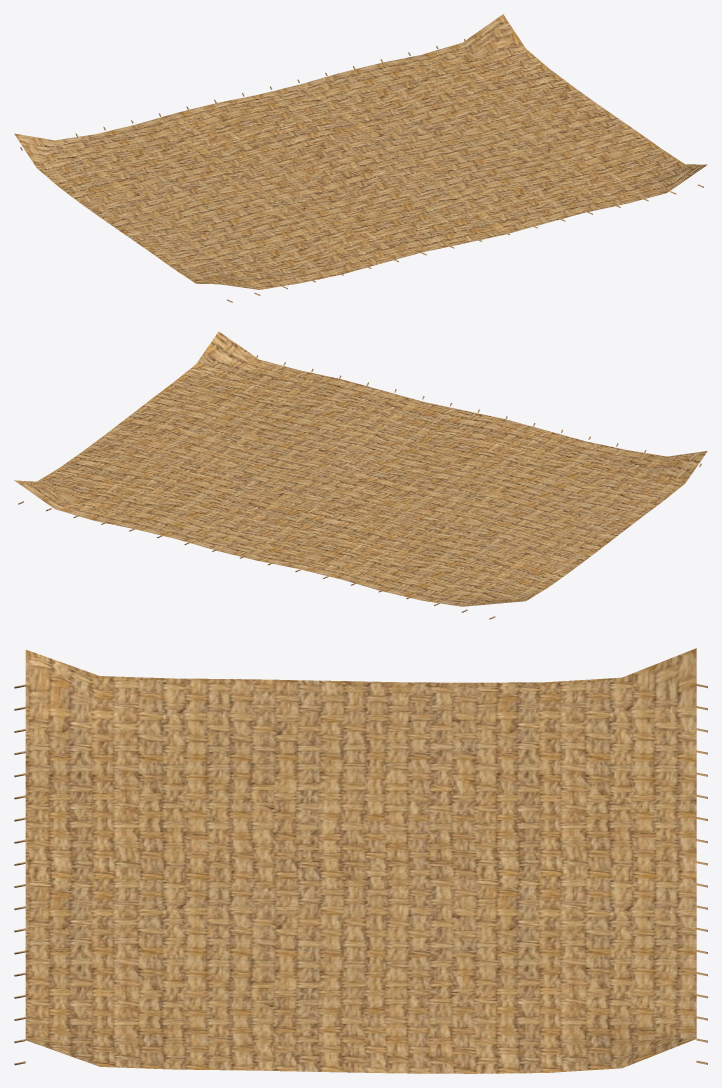
File: prop_pati_lod1.glb
The picture shows the model from 3 angles, top to bottom: view 1: azimuth 30°, elevation 25°; view 2: azimuth 150°, elevation 25°; view 3: azimuth 270°, elevation 25°; orthographic projection. The views are drawn at different scales.
Parts seen in each view (by area): view 1: prop_pati; view 2: prop_pati; view 3: prop_pati.
Part boxes in pixels (bbox=[...]): prop_pati: bbox=[14, 14, 707, 302]; prop_pati: bbox=[14, 331, 707, 619]; prop_pati: bbox=[14, 648, 707, 1073].
Bounding box in the file's own units: 1.2 × 0.05 × 0.9.
1 material, 1 textured.
